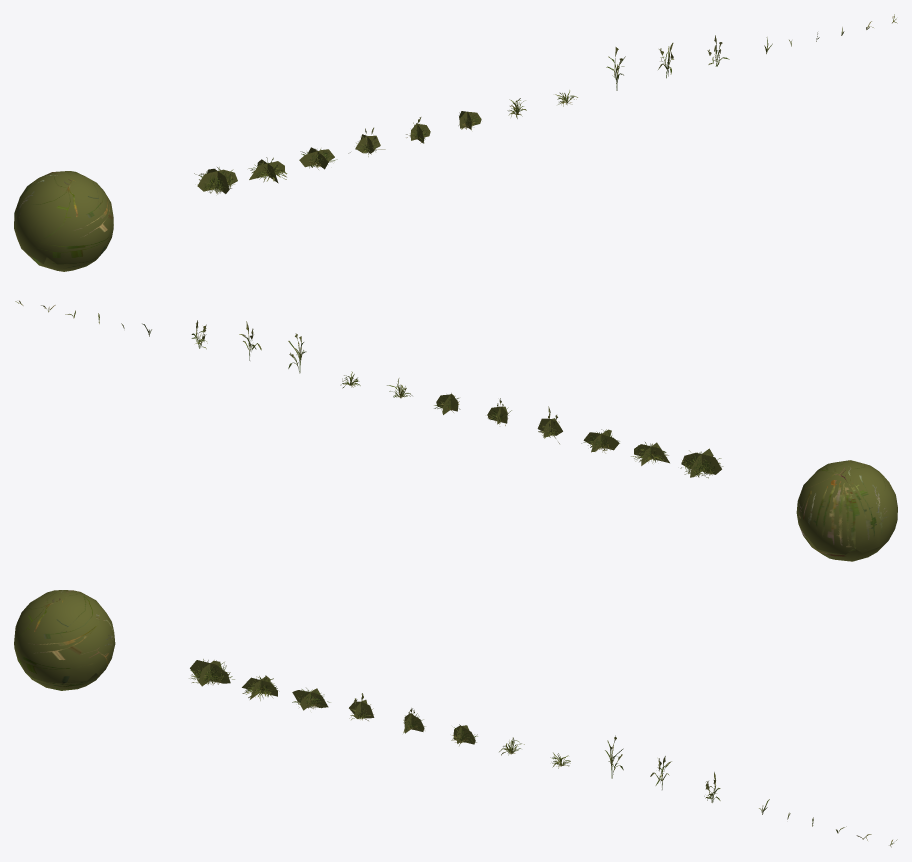
File: field_grass_a_lod0.glb
3 views of the same model, one above another, from view 1: azimuth 30°, elevation 25°; view 2: azimuth 150°, elevation 25°; view 3: azimuth 330°, elevation 25° (orthographic).
Visible parts, largest first — view 1: blades_lod0; view 2: blades_lod0; view 3: blades_lod0.
Part boxes in pixels (bbox=[...]): blades_lod0: bbox=[14, 14, 897, 264]; blades_lod0: bbox=[15, 300, 897, 554]; blades_lod0: bbox=[14, 590, 897, 847].
Size of the model in its own units: 7 by 0.6999 by 0.6989.
1 material, 1 textured.
